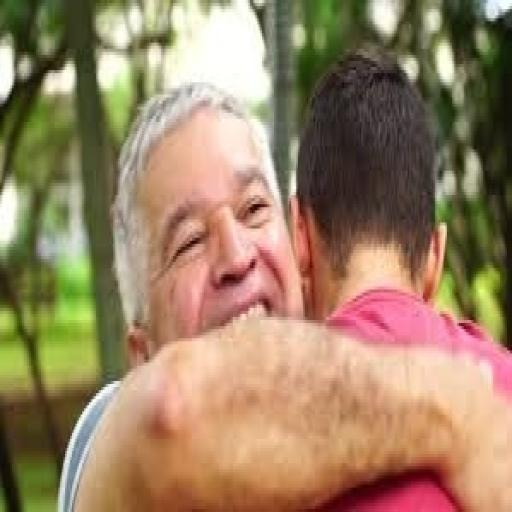hugging: (56, 43, 510, 509)
